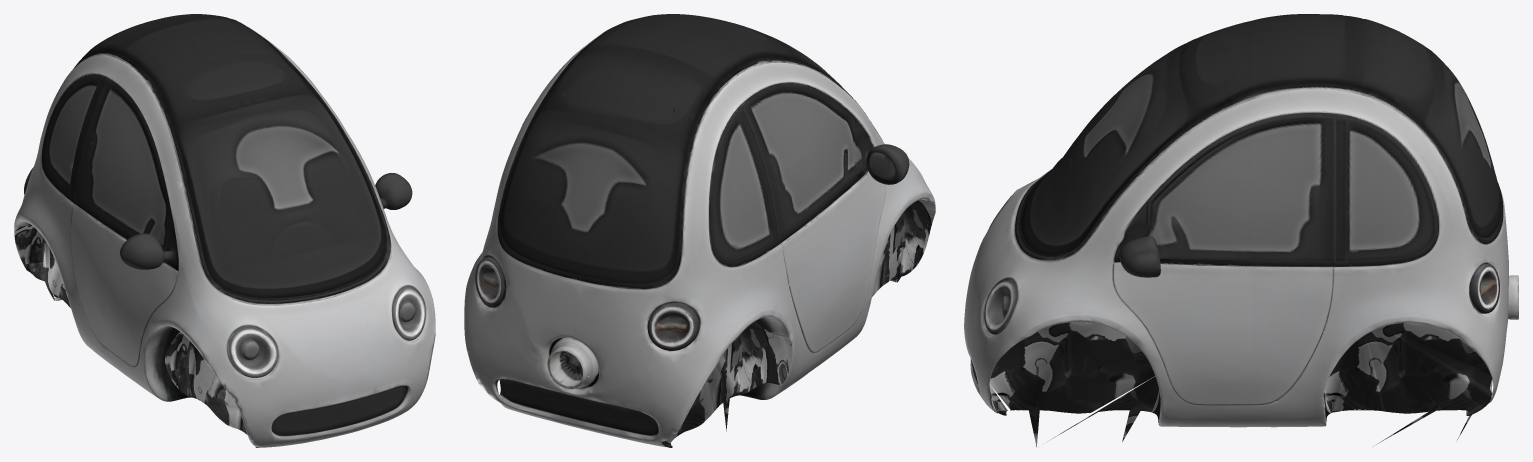
The model's file is pebble.glb.
The picture shows the model from 3 angles, left to right: view 1: azimuth 30°, elevation 25°; view 2: azimuth 150°, elevation 25°; view 3: azimuth 270°, elevation 25°; orthographic projection. The views are drawn at different scales.
Parts seen in each view (by area): view 1: body; view 2: body; view 3: body.
Part boxes in pixels (<box>): body: <box>14,14,435,447</box>; body: <box>464,14,935,447</box>; body: <box>964,14,1518,446</box>.
Bounding box in the file's own units: 3.24 × 3.56 × 4.77.
Materials: 1 (1 with a texture image).
